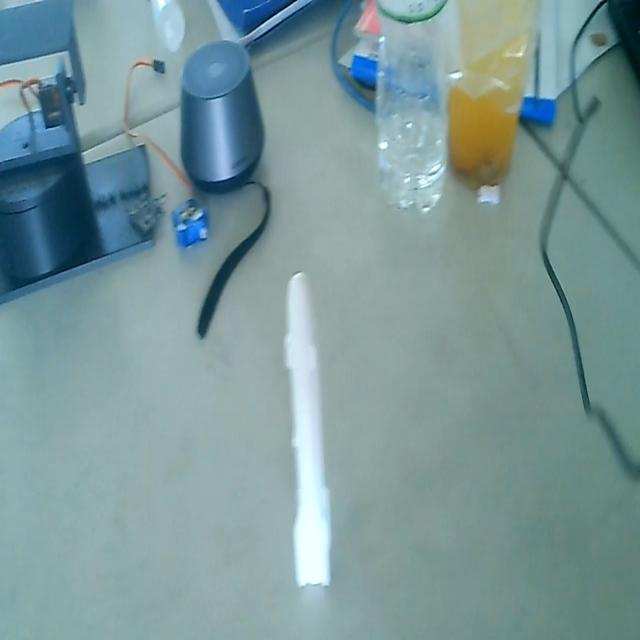Rocket: (279, 268, 335, 594)
